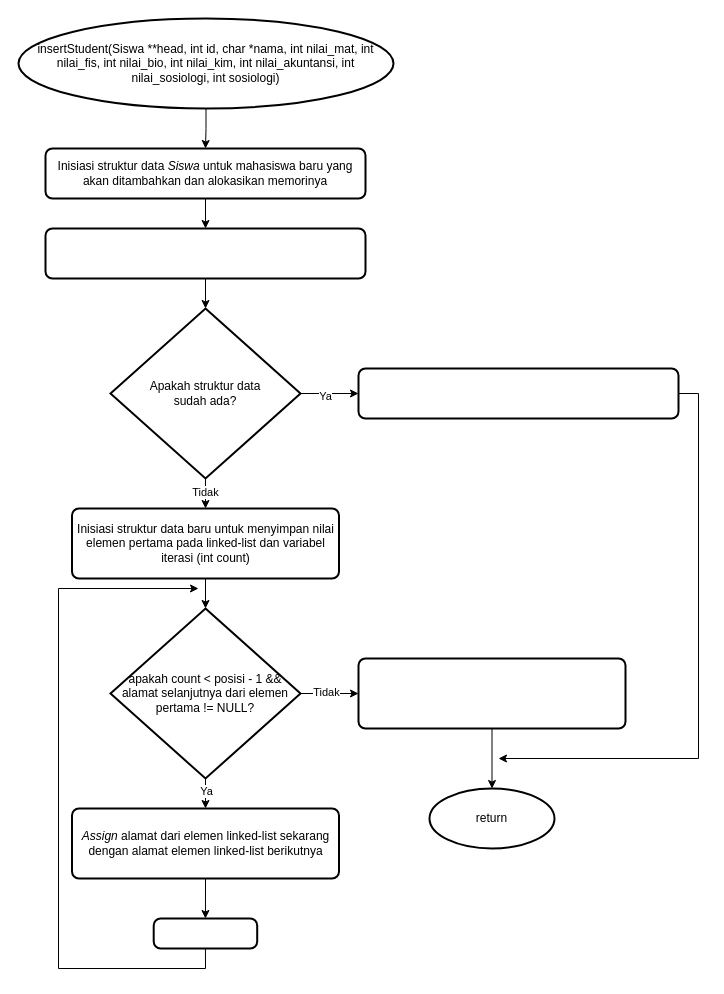
Some shapes in this 724 by 994 pixel diagram are drawn without their labels. The box of each missing label's shape, as (x1, y1, x2, y2) in pixels:
Assign data dari mahasiswa baru ke elemen pertama dari linked-list: (357, 367, 679, 419)
Assign setiap data yang dimasukkan oleh pengguna ke dalam struktur data Siswa: (44, 227, 366, 279)
count++: (152, 917, 258, 949)
Sisipkan mahasiswa baru ke dalam linked-list: (357, 657, 626, 729)
